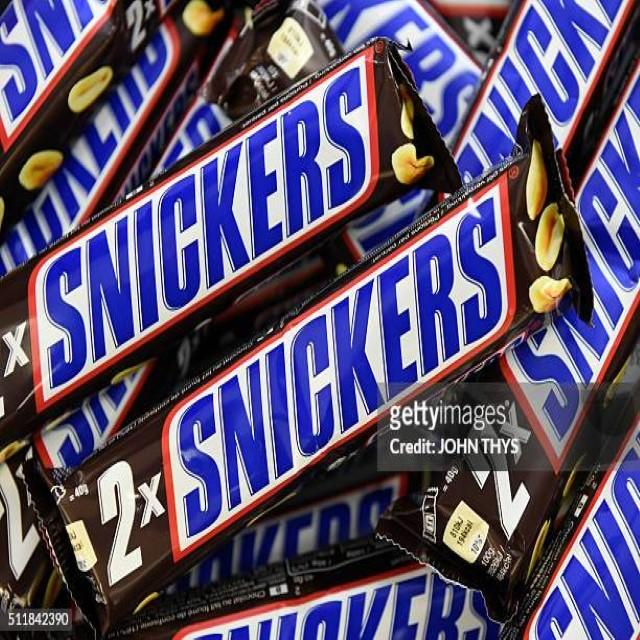snickers_chocolate: (111, 145, 576, 605), (55, 31, 413, 372)
